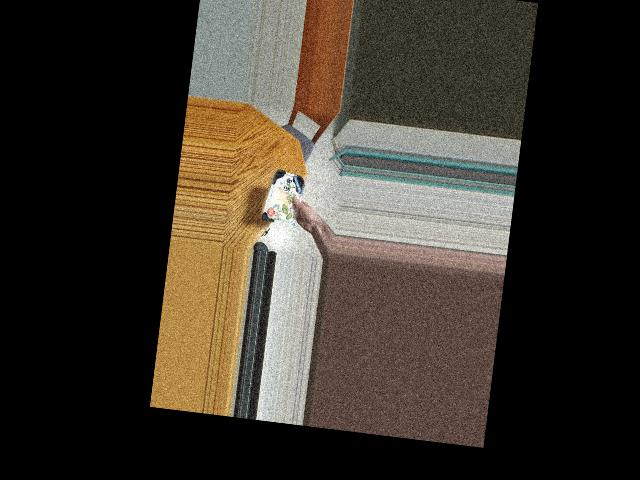cheese: (264, 167, 306, 219)
